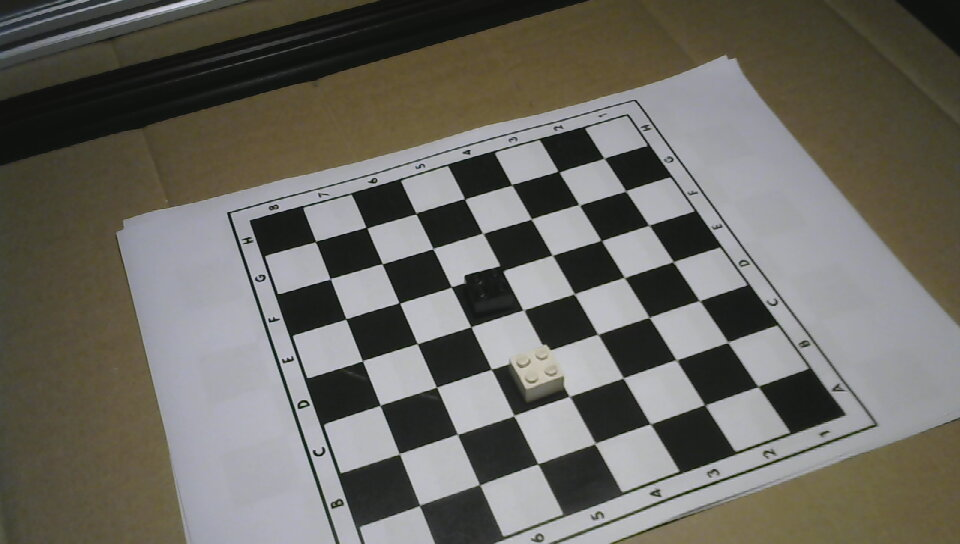bp: (458, 265, 519, 319)
